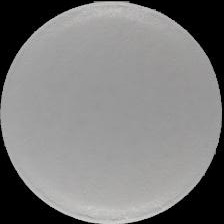0904-6324: (0, 0, 224, 224)
